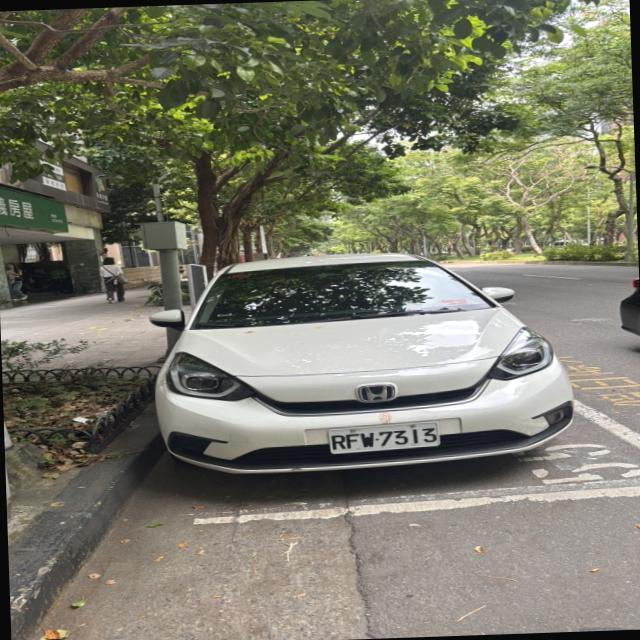license plate: (328, 421, 439, 454)
